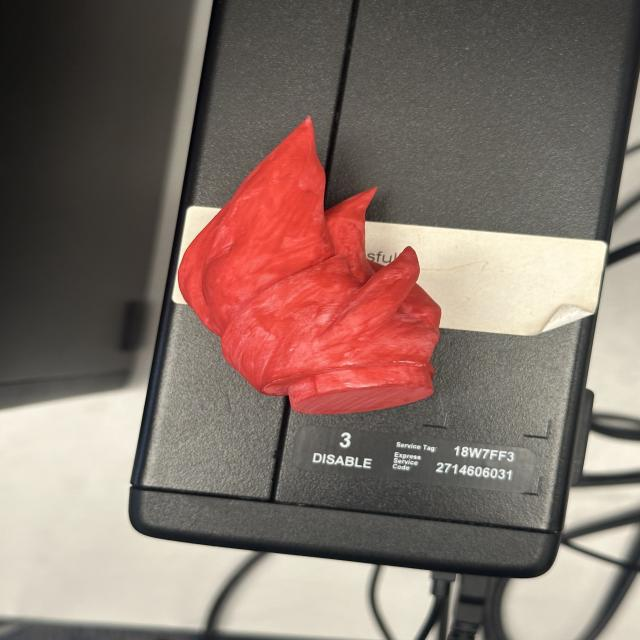fire: (173, 112, 445, 417)
